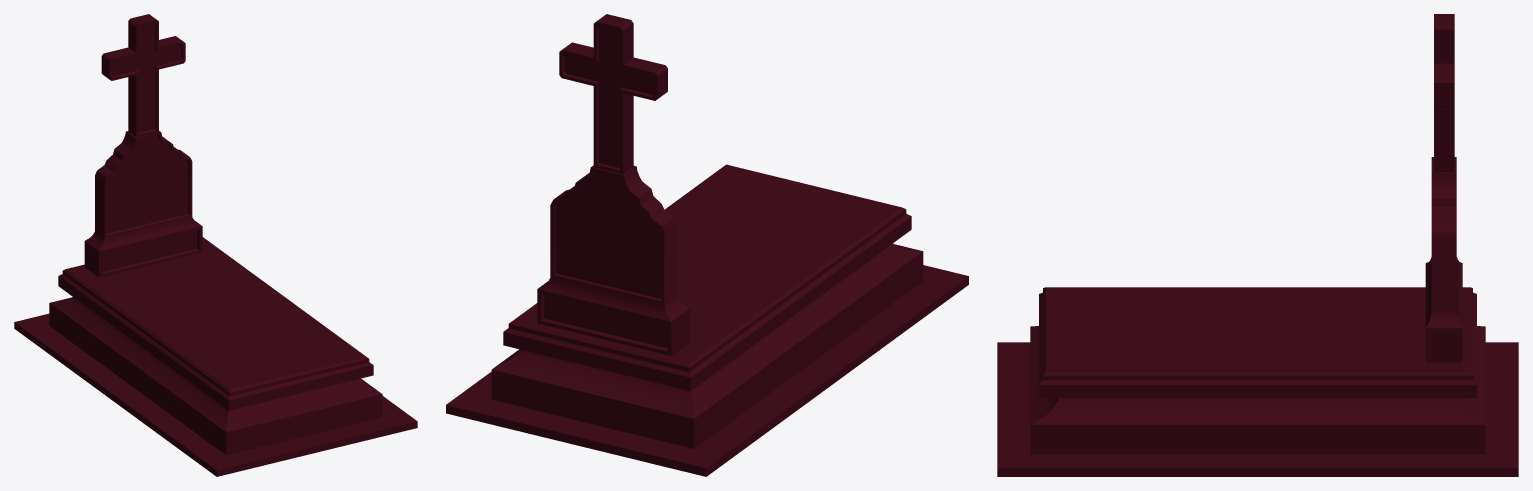
The model's file is Tomb_2.fbx.
The picture shows the model from 3 angles, left to right: view 1: azimuth 30°, elevation 25°; view 2: azimuth 150°, elevation 25°; view 3: azimuth 270°, elevation 25°; orthographic projection. The views are drawn at different scales.
Visible parts, largest first — view 1: Tomb_2; view 2: Tomb_2; view 3: Tomb_2.
Boxes of the visible parts, left/top/right/bottom form: Tomb_2: left=14, top=14, right=417, bottom=476; Tomb_2: left=446, top=14, right=968, bottom=476; Tomb_2: left=997, top=14, right=1518, bottom=476.
Bounding box in the file's own units: 11.45 × 16.68 × 20.
